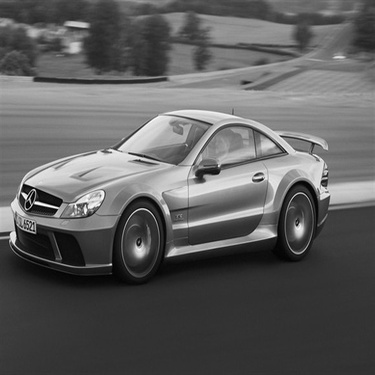car: (2, 107, 334, 287)
